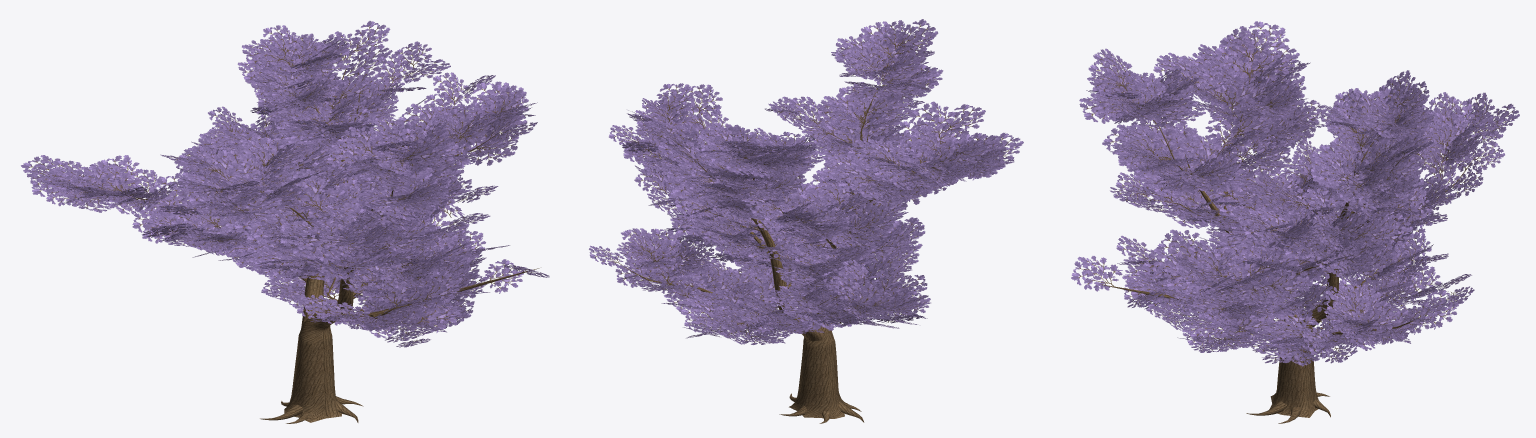
File: fairy_hero_fae_sheltered.glb
The picture shows the model from 3 angles, left to right: view 1: azimuth 30°, elevation 25°; view 2: azimuth 150°, elevation 25°; view 3: azimuth 270°, elevation 25°; orthographic projection. The views are drawn at different scales.
Parts seen in each view (by area): view 1: fairy_hero_fae_sheltered; view 2: fairy_hero_fae_sheltered; view 3: fairy_hero_fae_sheltered.
Boxes of the visible parts, x1,y1,x2,y2 form: fairy_hero_fae_sheltered: [21, 21, 549, 423]; fairy_hero_fae_sheltered: [589, 19, 1023, 423]; fairy_hero_fae_sheltered: [1071, 21, 1519, 423].
Bounding box in the file's own units: 13.97 × 11 × 13.13.
2 materials, 2 textured.
